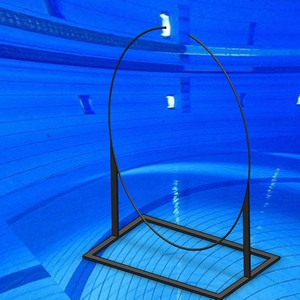circle: (82, 25, 282, 299)
